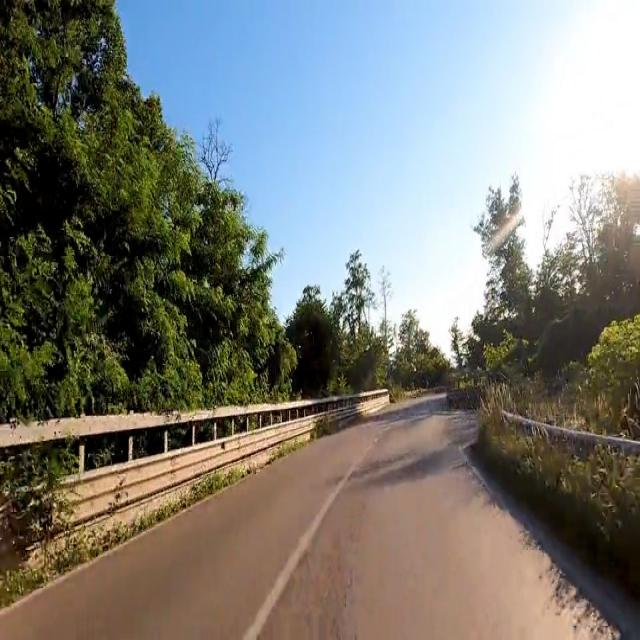lane: (243, 435, 379, 639)
road: (0, 397, 613, 638)
